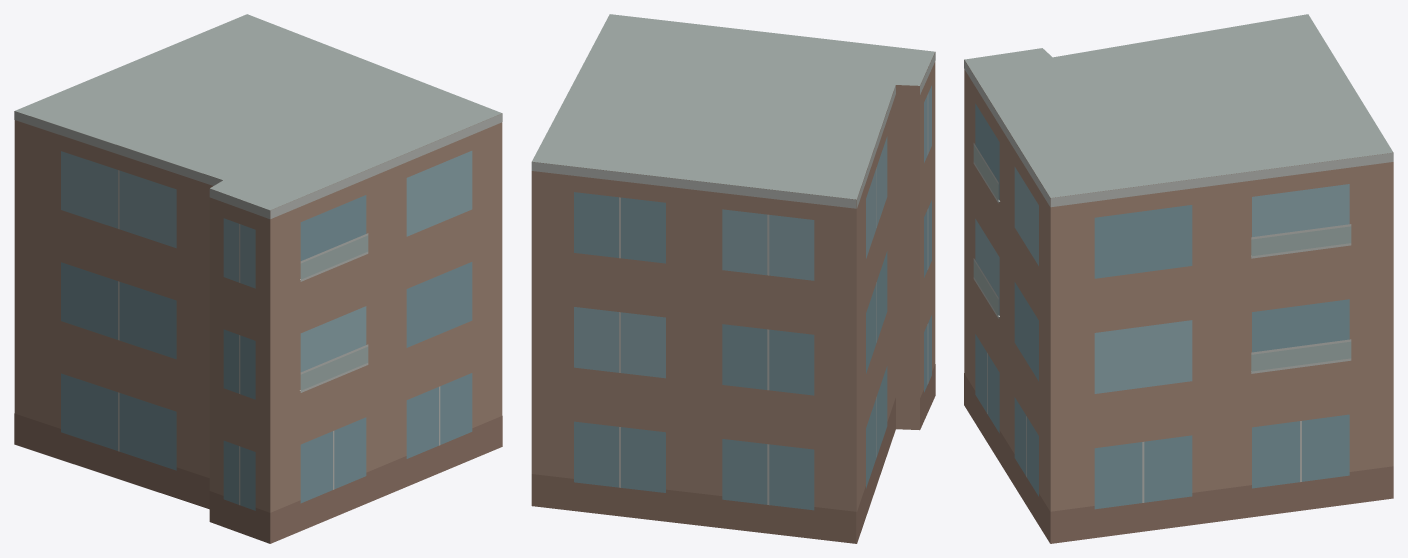
File: survey-upis-32761743.glb
3 renders of one model, left to right at view 1: azimuth 30°, elevation 25°; view 2: azimuth 150°, elevation 25°; view 3: azimuth 270°, elevation 25°, orthographic. The views are drawn at different scales.
Visible parts, largest first — view 1: survey-upis-32761743.tmp; view 2: survey-upis-32761743.tmp; view 3: survey-upis-32761743.tmp.
Boxes of the visible parts, x1,y1,x2,y2 form: survey-upis-32761743.tmp: (14,14,502,543); survey-upis-32761743.tmp: (531,14,935,543); survey-upis-32761743.tmp: (964,14,1393,543).
Bounding box in the file's own units: 10.39 × 9.1 × 10.25.
